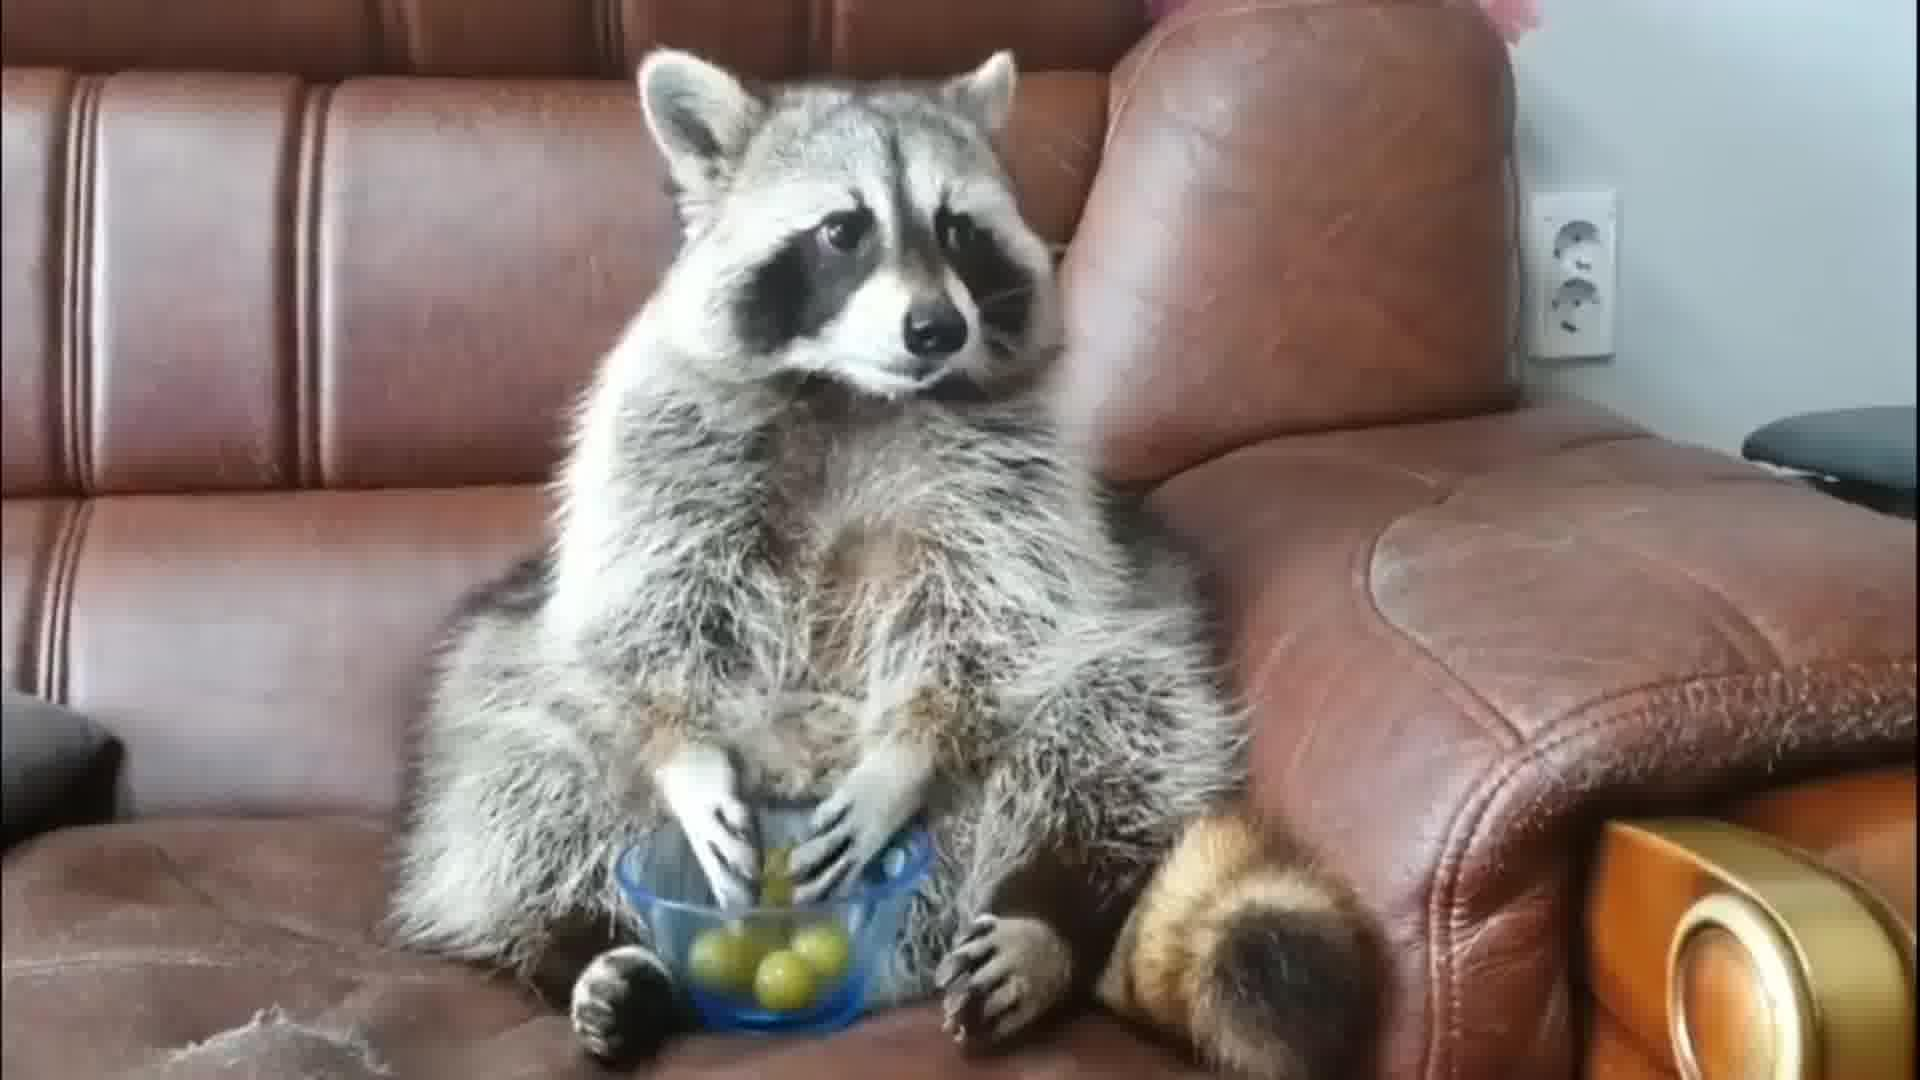raccoon: (371, 57, 1396, 1080)
